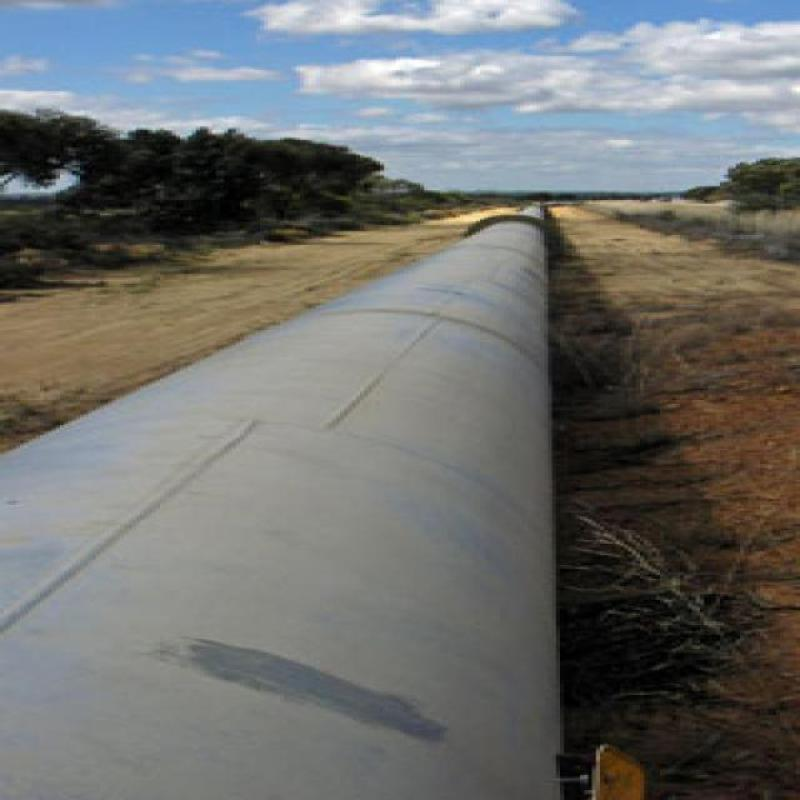Healthy: (0, 75, 656, 800)
